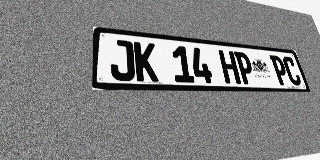1: (170, 45, 195, 83)
4: (189, 47, 213, 83)
C: (281, 56, 303, 86)
H: (218, 50, 241, 84)
J: (110, 39, 135, 81)
K: (134, 41, 159, 82)
P: (234, 51, 256, 84), (269, 55, 291, 85)
